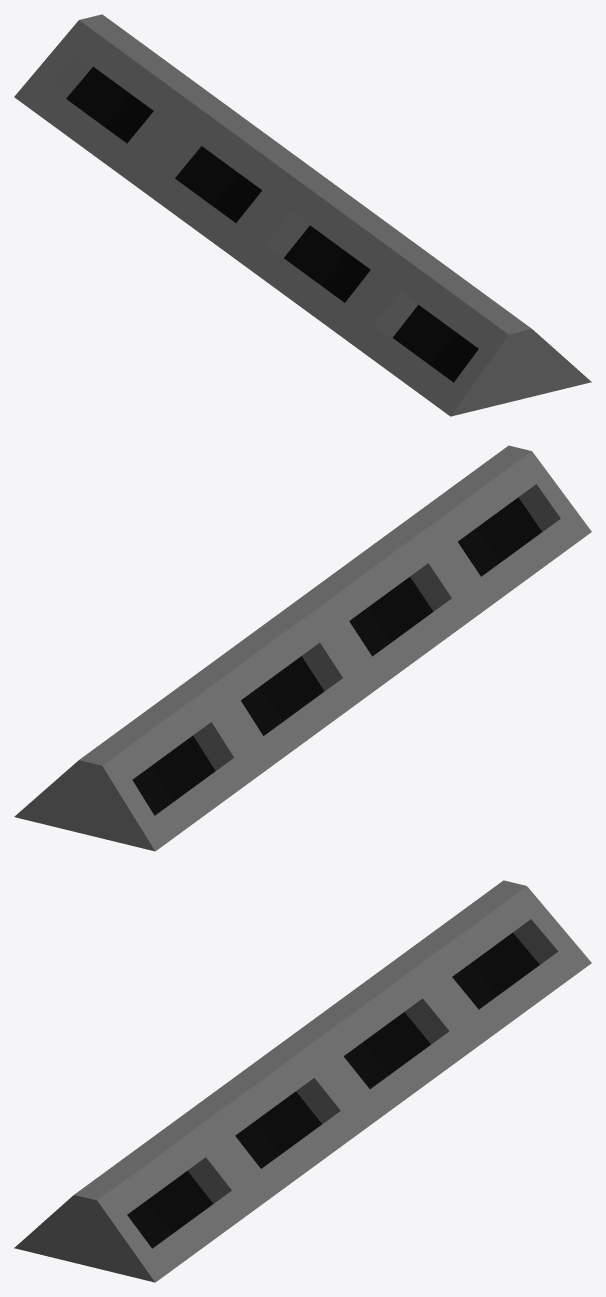
The model's file is Socket_threshold_short.fbx.
3 views of the same model, one above another, from view 1: azimuth 30°, elevation 25°; view 2: azimuth 150°, elevation 25°; view 3: azimuth 330°, elevation 25° (orthographic).
Parts seen in each view (by area): view 1: Socket threshhold short; view 2: Socket threshhold short; view 3: Socket threshhold short.
Part boxes in pixels (left/top/right/bottom): Socket threshhold short: left=14, top=14, right=591, bottom=416; Socket threshhold short: left=14, top=445, right=591, bottom=851; Socket threshhold short: left=14, top=880, right=591, bottom=1282.
Bounding box in the file's own units: 16.83 × 7.62 × 90.
